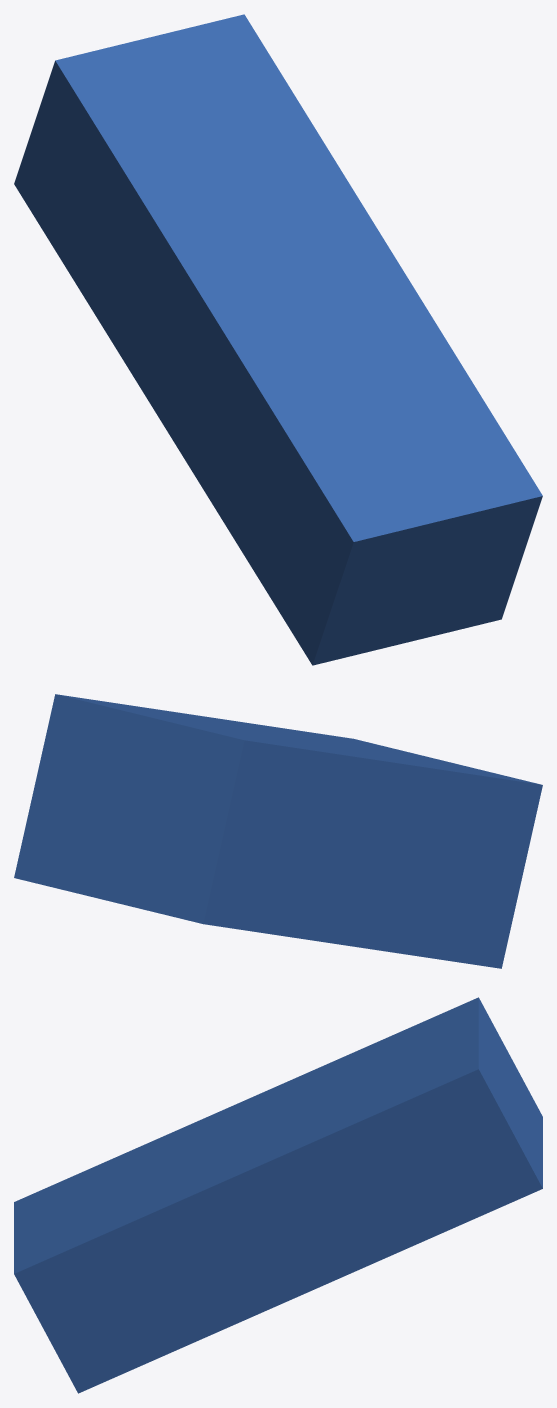
Rendered from blue3.fbx.
3 renders of one model, top to bottom at view 1: azimuth 30°, elevation 25°; view 2: azimuth 150°, elevation 25°; view 3: azimuth 270°, elevation 25°, orthographic. The views are drawn at different scales.
Parts seen in each view (by area): view 1: Object_1; view 2: Object_1; view 3: Object_1.
Part boxes in pixels (x1,y1,x2,y2): Object_1: (14,14,542,665); Object_1: (14,694,542,968); Object_1: (14,997,542,1393).
Size of the model in its own units: 0.6482 by 2.02 by 1.36.
